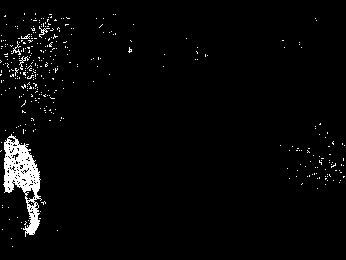person: (3, 134, 42, 235)
